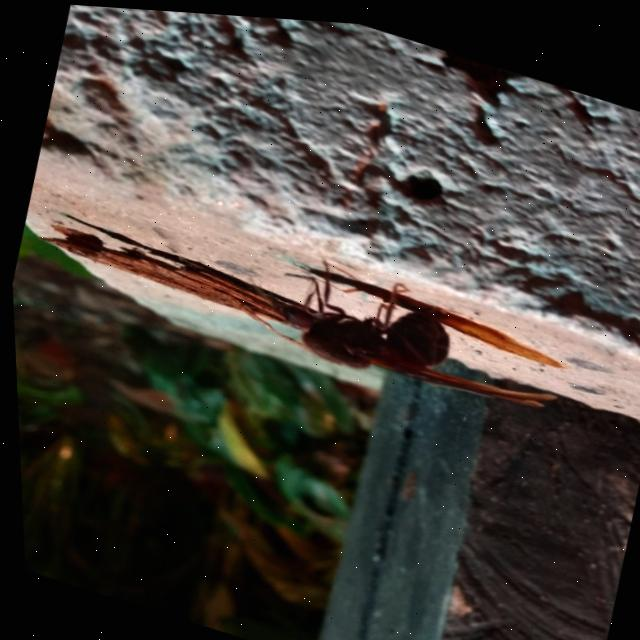Alive-Female-Alate: (229, 231, 572, 425)
